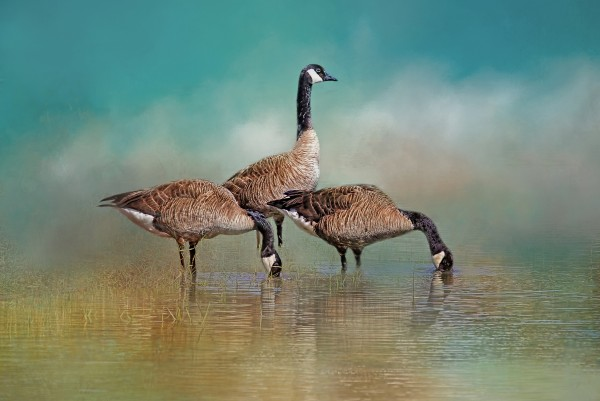goose: (213, 63, 339, 251), (93, 175, 285, 286), (270, 179, 456, 277)
